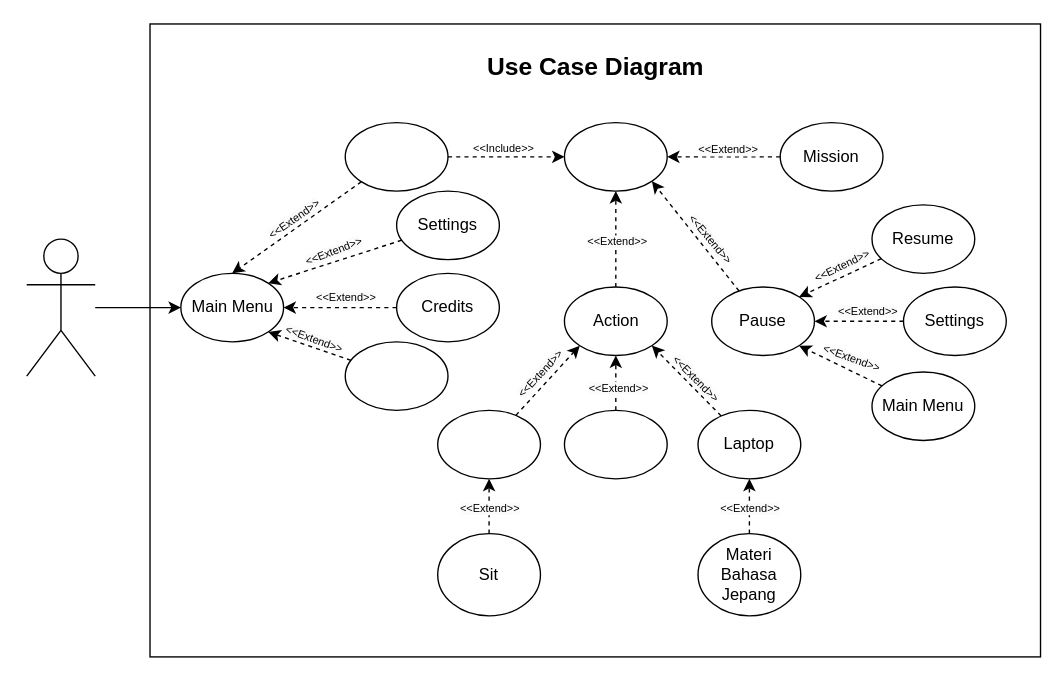
Some shapes in this 1064 by 681 pixel diagram are drawn without their labels. Each missing label, with the centre of its shape:
Bed: point (615, 444)
Classroom: point (488, 444)
Gameplay: point (615, 156)
Pengguna: point (60, 307)
Quit Game: point (396, 375)
Start Game: point (396, 156)
